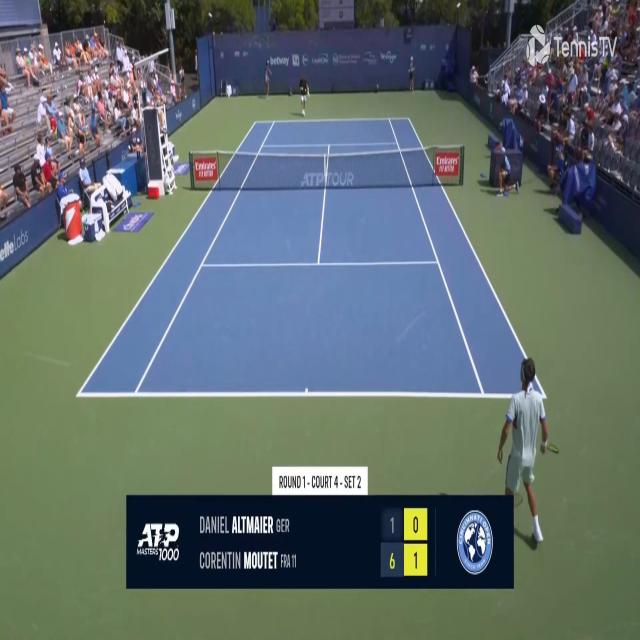tennis-player: (496, 357, 559, 550), (298, 72, 310, 116)
